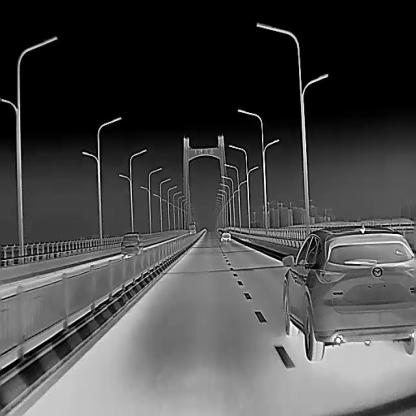bus: (189, 220, 195, 233)
car: (281, 223, 415, 361), (119, 233, 142, 254), (219, 231, 231, 240)
